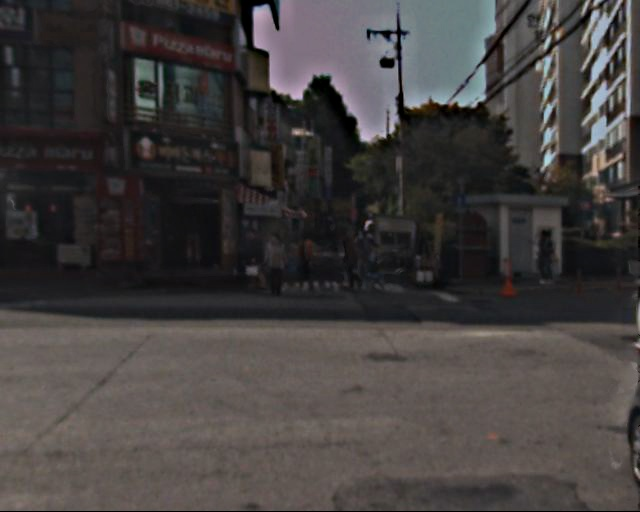person: (260, 231, 287, 296), (244, 230, 270, 293), (340, 228, 365, 289), (533, 227, 558, 287), (295, 231, 316, 281), (367, 245, 386, 291), (328, 221, 343, 258)
